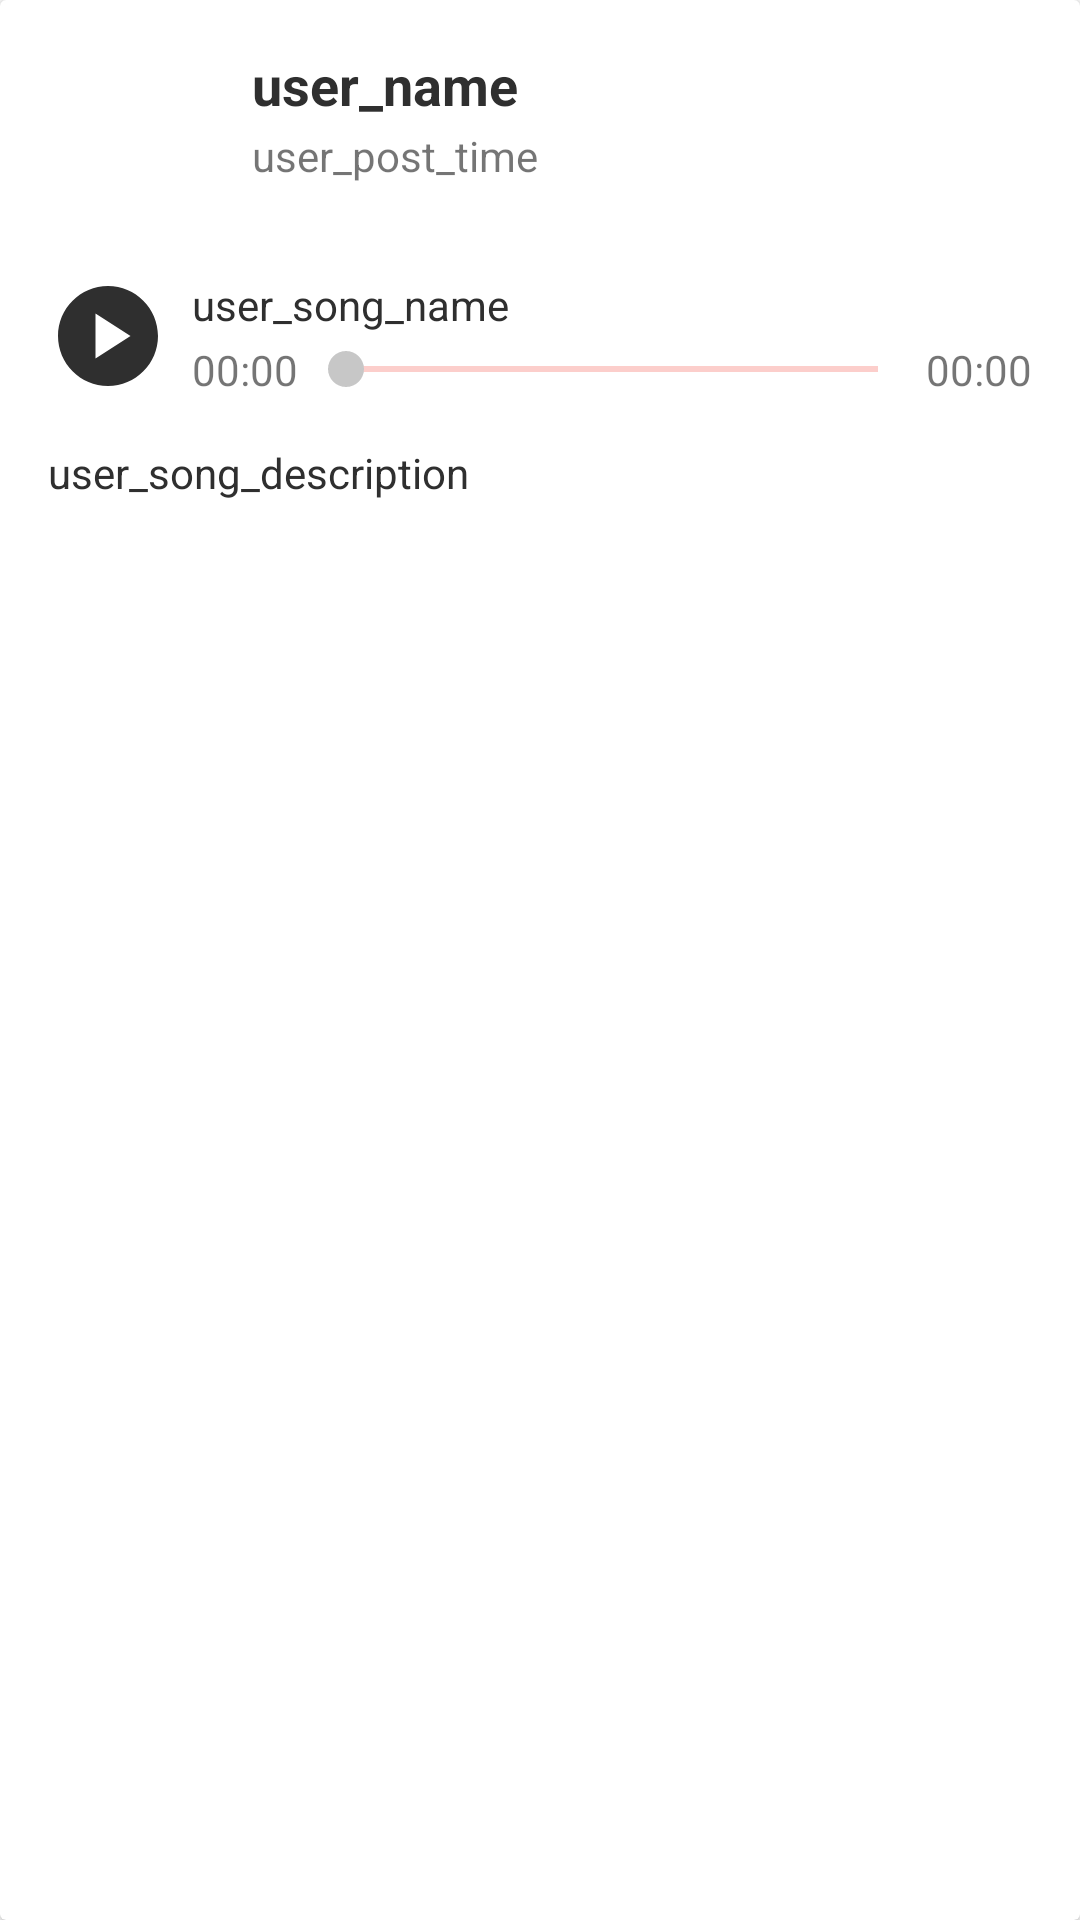

Named icons in this screenshot (1080px x 1920px) and their centers, (x=x, y=y):
play circle: (x=108, y=336)
